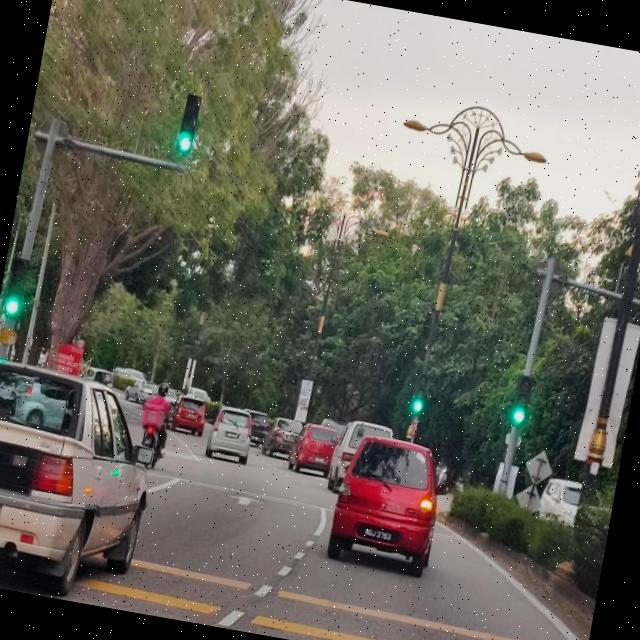green_light: (3, 256, 30, 318), (175, 93, 202, 153), (509, 376, 532, 426), (411, 372, 429, 415)
